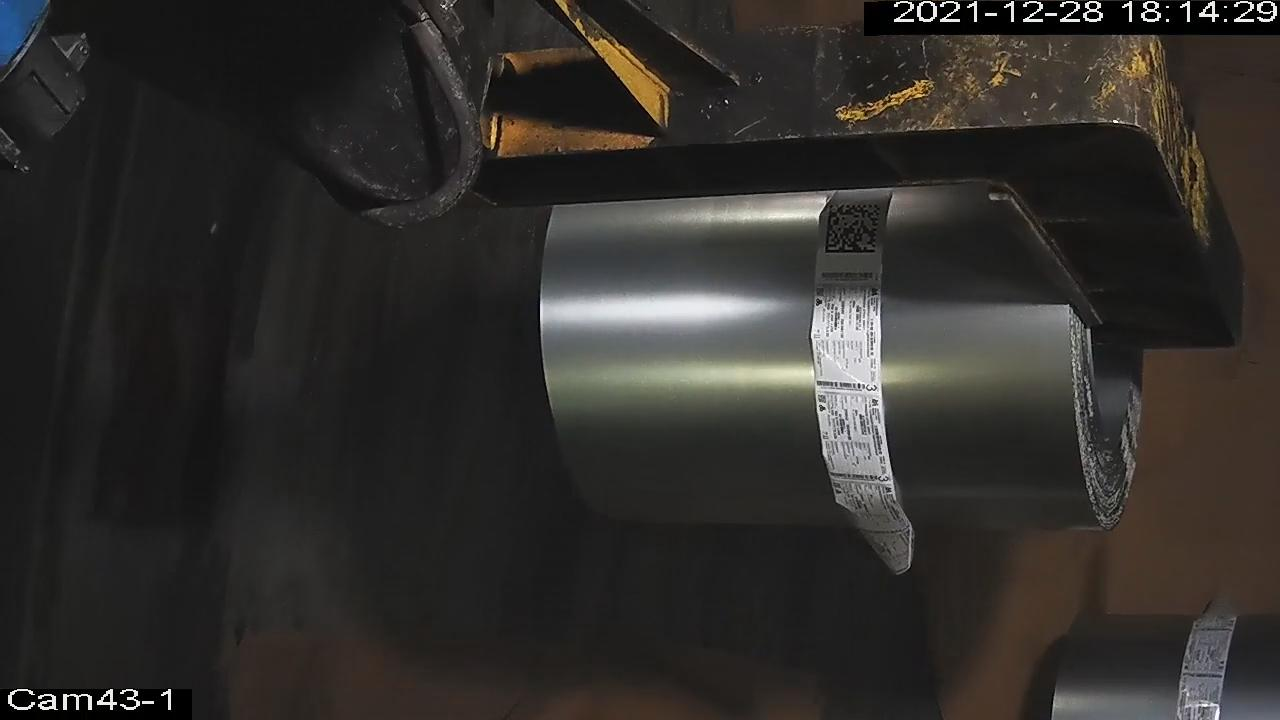data matrix: (824, 202, 883, 256)
